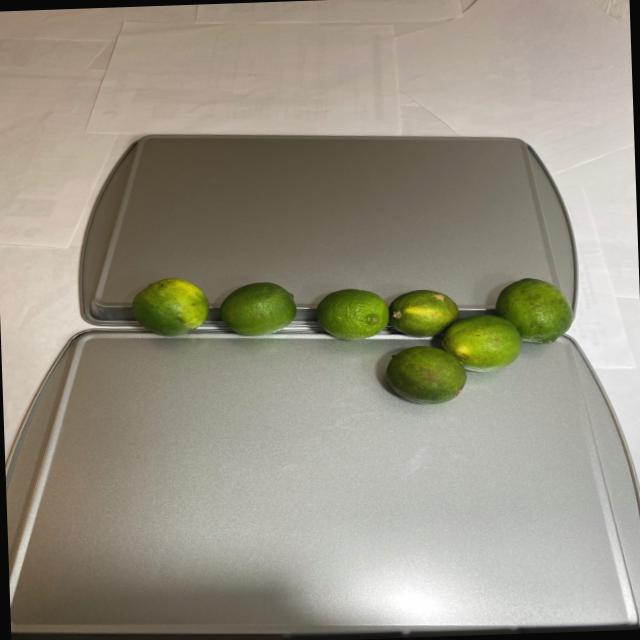lemon: (113, 261, 576, 413)
